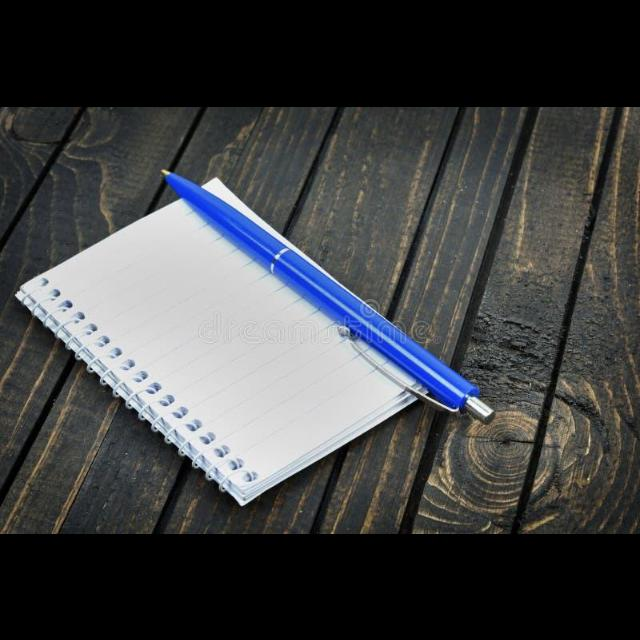papel: (14, 174, 434, 508)
